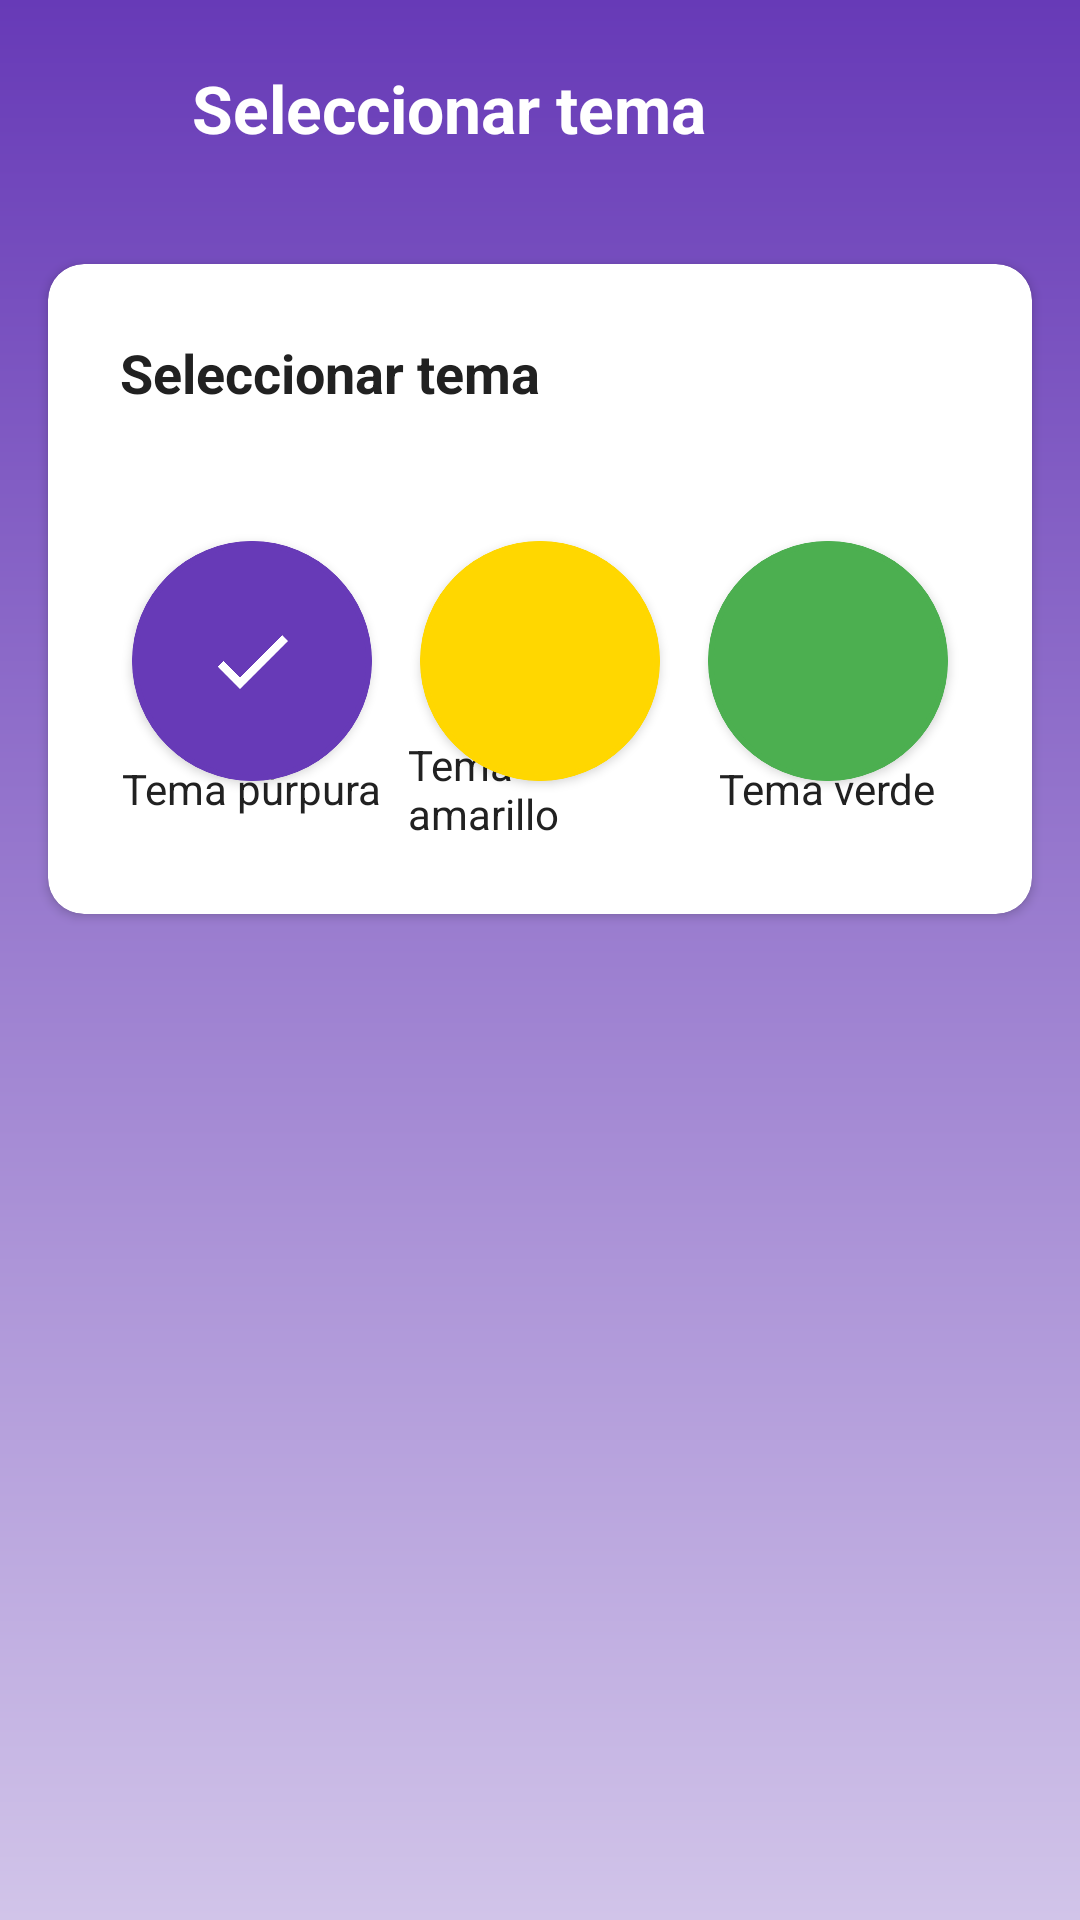

Screen size 1080x1920. Icon name, then its center in pixels as (x,y):
check: (253,662)
